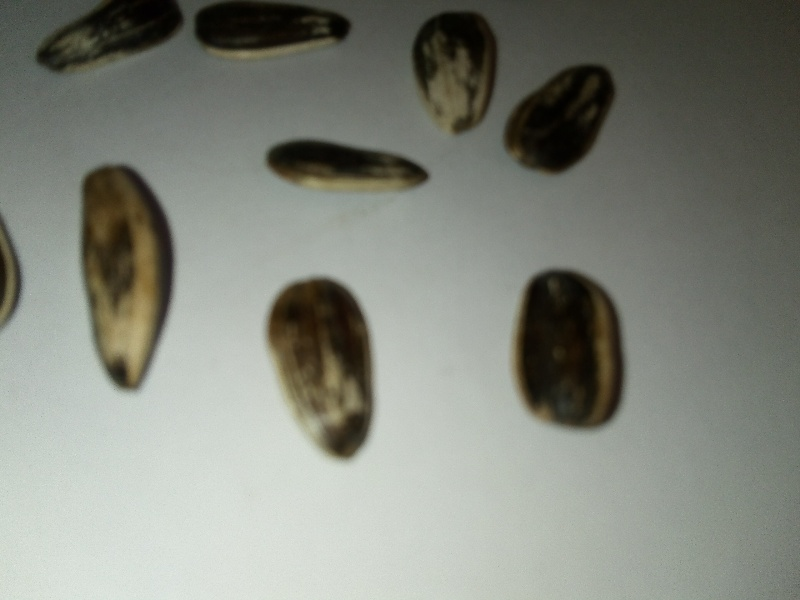girasol: (66, 154, 186, 400), (253, 270, 388, 469), (499, 260, 638, 450), (257, 131, 439, 197)
